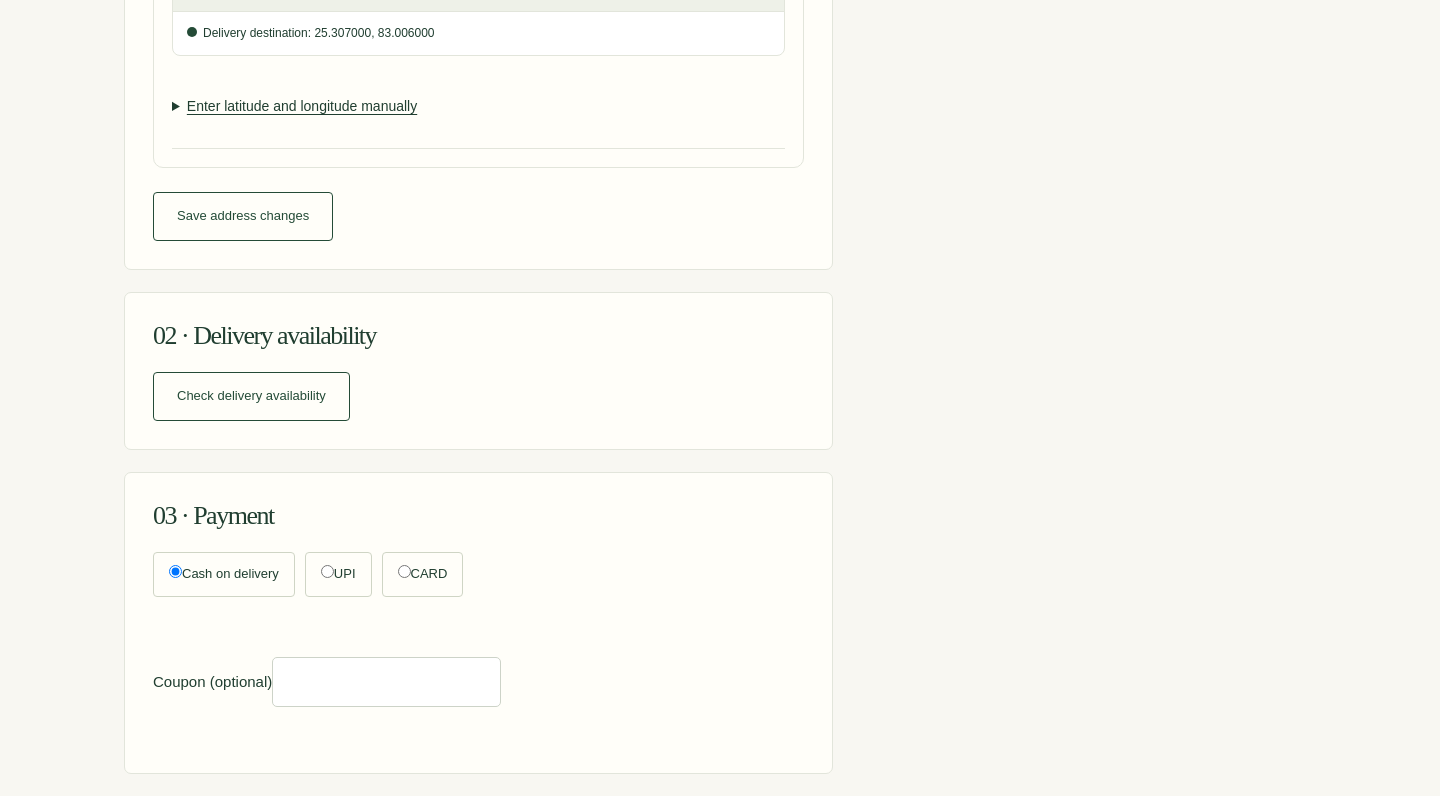
Test: backend delivery checkout › shows quote errors without creating a fallback order or clearing the cart
The width and height of the screenshot is (1440, 796).
(page scrolled)
Click the button "Check delivery availability".
click(251, 396)  # box top-left (153, 372), bottom-right (350, 421)
(page scrolled)
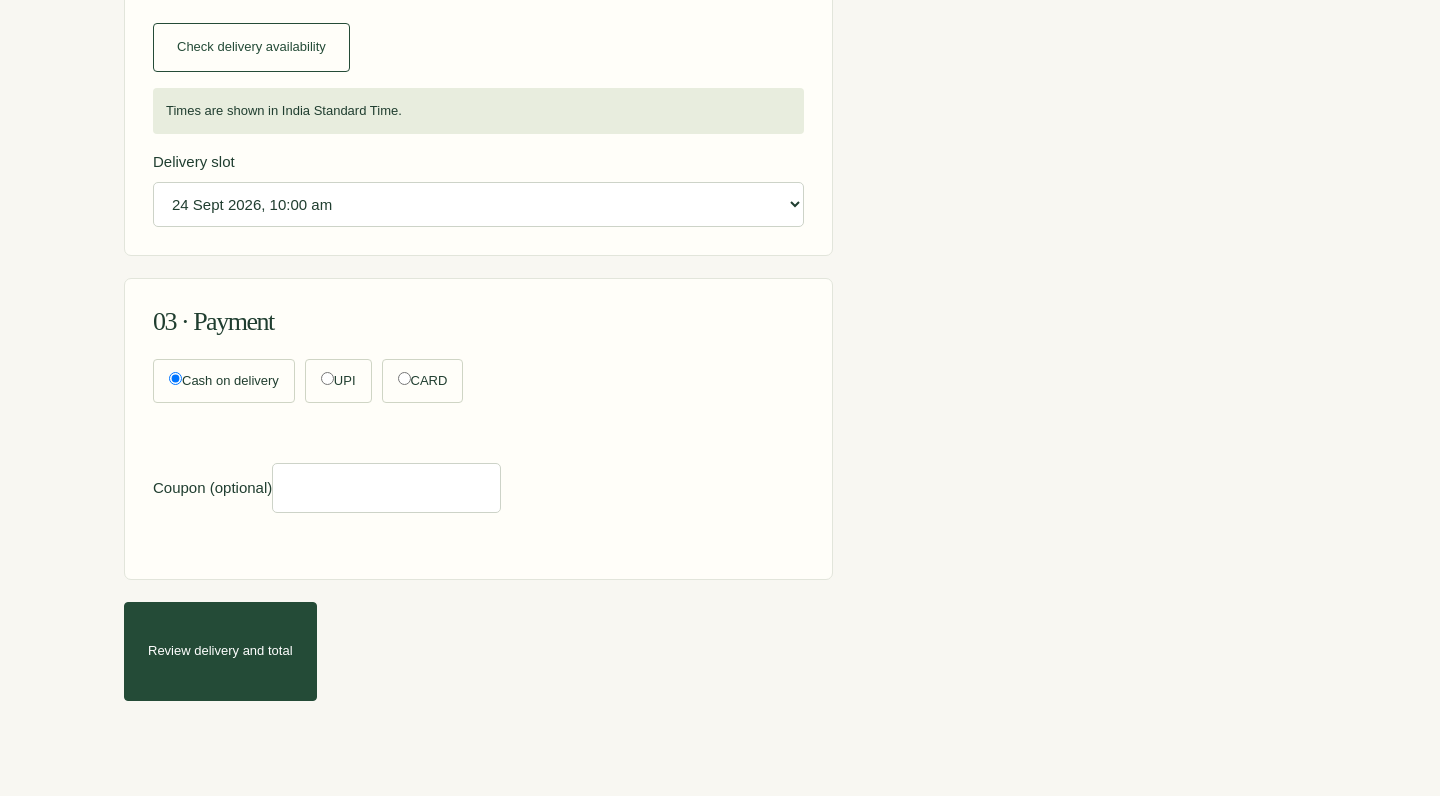
Expected: the dropdown labelled "Delivery slot" is shown, top-left (153, 182), bottom-right (804, 227)
Click the button "Review delivery and total".
click(220, 652)  # box top-left (124, 602), bottom-right (316, 701)
(page scrolled)
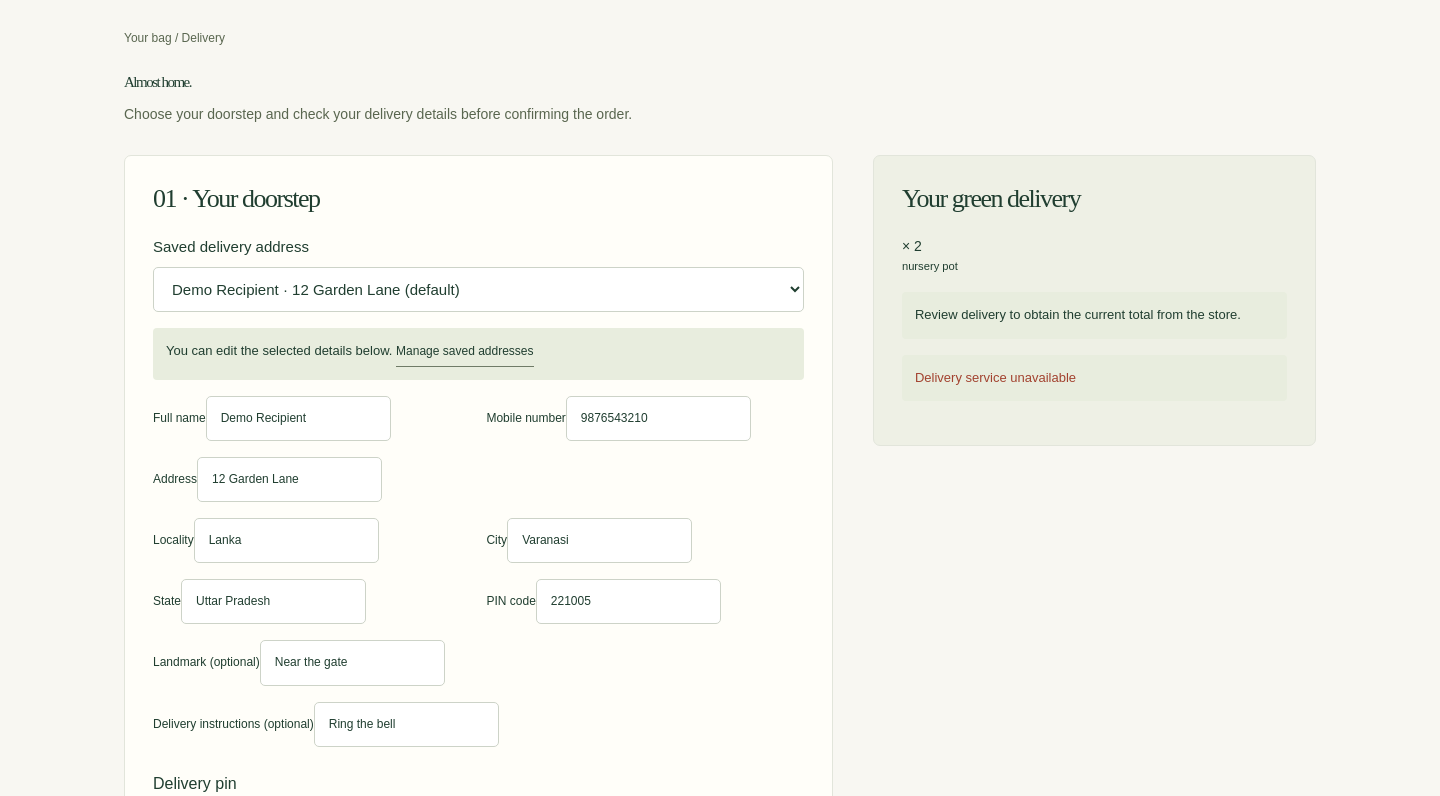
Expected: the message reads "Delivery service unavailable", top-left (915, 370), bottom-right (1076, 385)
